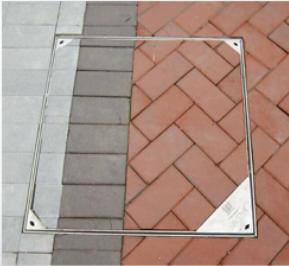wellcover: (22, 25, 259, 241)
